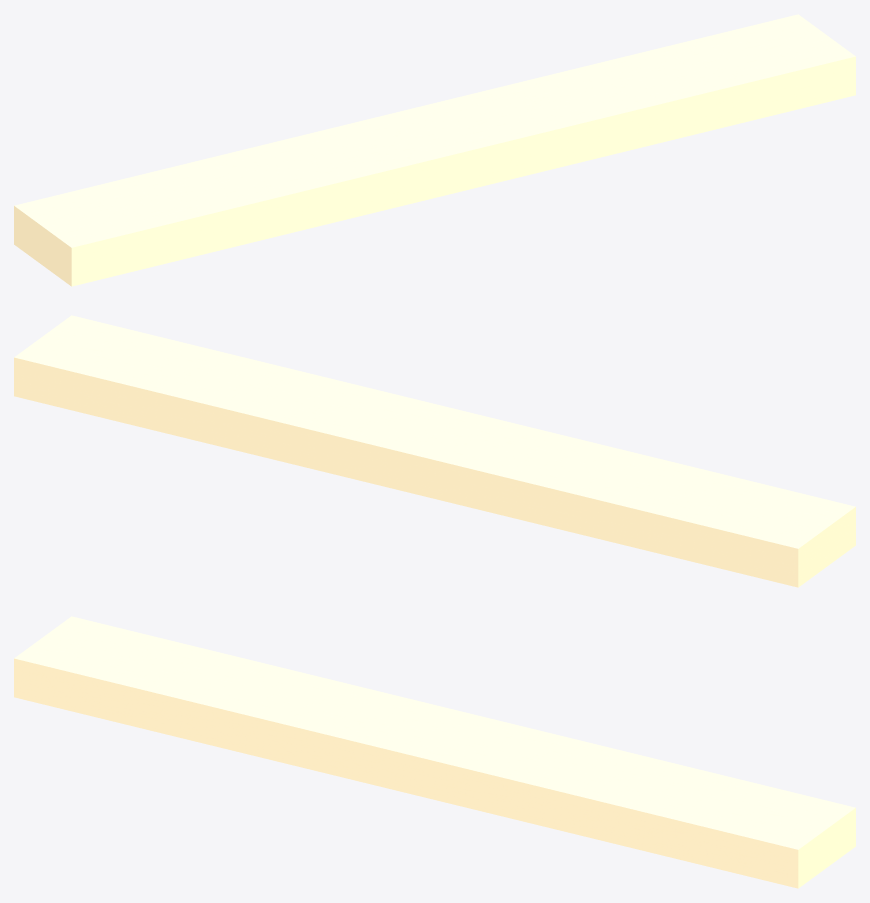
Rendered from cabinet_strip.glb.
3 renders of one model, top to bottom at view 1: azimuth 30°, elevation 25°; view 2: azimuth 150°, elevation 25°; view 3: azimuth 330°, elevation 25°, orthographic.
Visible parts, largest first — view 1: home_cabinet_strip; view 2: home_cabinet_strip; view 3: home_cabinet_strip.
Part boxes in pixels (x1,y1,x2,y2): home_cabinet_strip: (14,14,855,286); home_cabinet_strip: (14,315,855,587); home_cabinet_strip: (14,616,855,888).
Bounding box in the file's own units: 0.55 × 0.026 × 0.07.
1 material, 1 textured.
